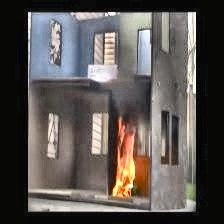fire: (111, 117, 144, 200)
